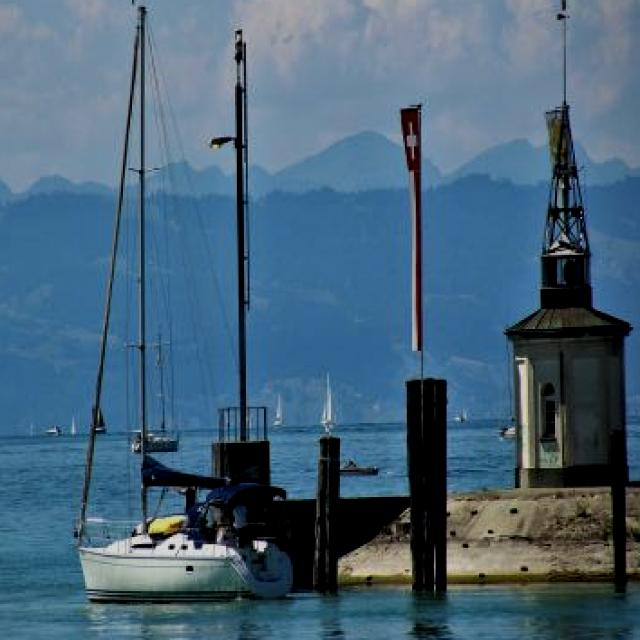ship: (72, 2, 296, 598)
